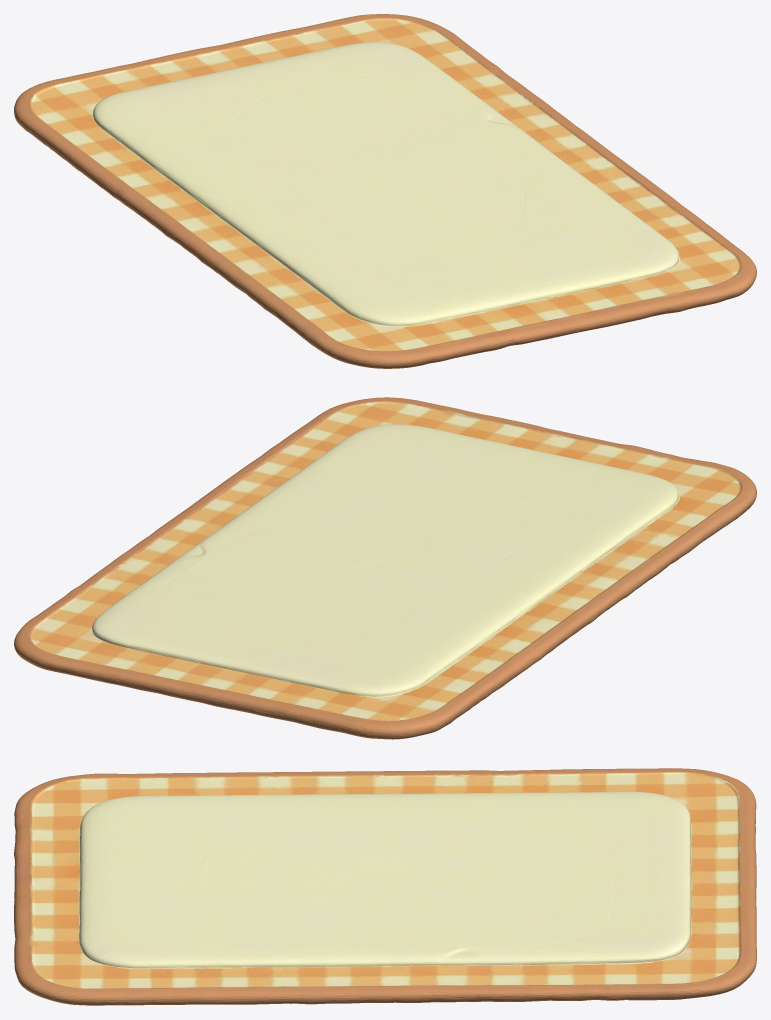
3 renders of one model, top to bottom at view 1: azimuth 30°, elevation 25°; view 2: azimuth 150°, elevation 25°; view 3: azimuth 270°, elevation 25°, orthographic.
Visible parts, largest first — view 1: tripo_node_5dacd5df-87bb-422c-9a68-fa74af1c7285; view 2: tripo_node_5dacd5df-87bb-422c-9a68-fa74af1c7285; view 3: tripo_node_5dacd5df-87bb-422c-9a68-fa74af1c7285.
Boxes of the visible parts, left/top/right/bottom form: tripo_node_5dacd5df-87bb-422c-9a68-fa74af1c7285: left=14, top=14, right=756, bottom=368; tripo_node_5dacd5df-87bb-422c-9a68-fa74af1c7285: left=14, top=397, right=756, bottom=739; tripo_node_5dacd5df-87bb-422c-9a68-fa74af1c7285: left=14, top=768, right=756, bottom=1005.
Bounding box in the file's own units: 0.6571 × 0.0638 × 0.9801.
1 material, 1 textured.
